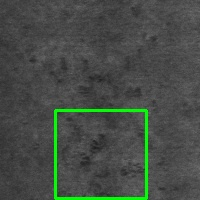rolled-in_scale: (55, 110, 146, 198)
